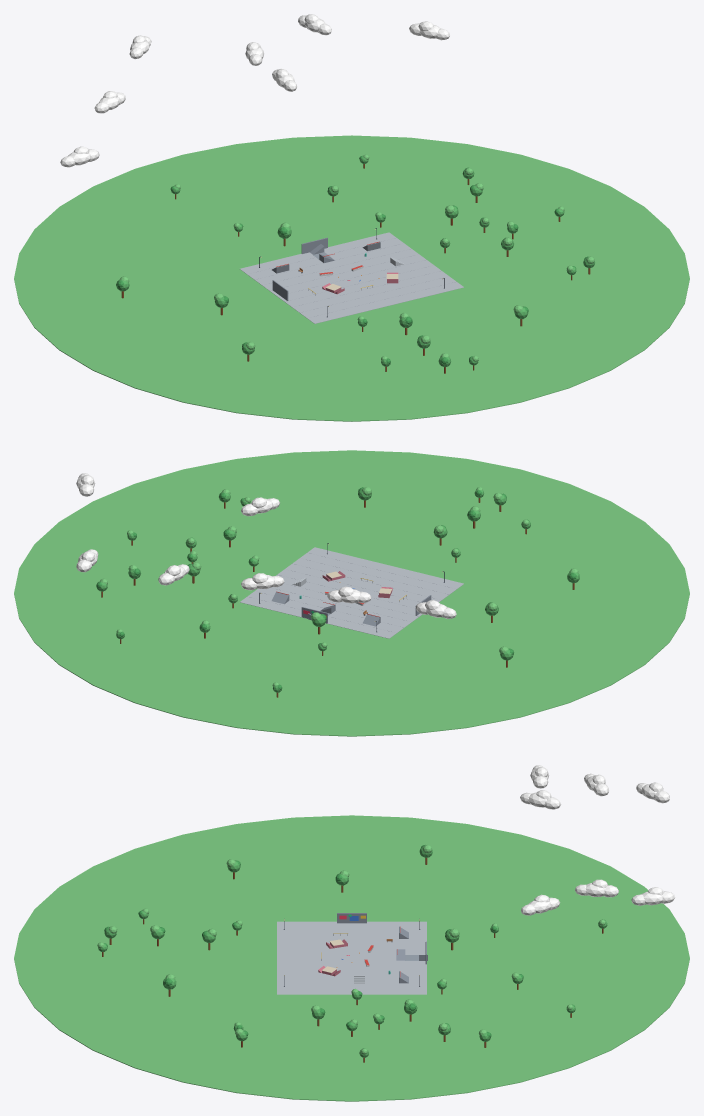
File: Skate_World.fbx
3 renders of one model, top to bottom at view 1: azimuth 30°, elevation 25°; view 2: azimuth 150°, elevation 25°; view 3: azimuth 270°, elevation 25°, orthographic.
Parts seen in each view (by area): view 1: Ground.001, Concrete.001; view 2: Ground.001, Concrete.001, Cloud.002, Cloud.003, Cloud.001, Cloud.004; view 3: Ground.001, Concrete.001, Cloud.005, Cloud.006, Cloud.004, Cloud.007.
Boxes of the visible parts, x1=… form: Ground.001: x1=14, y1=135, x2=689, y2=421; Concrete.001: x1=240, y1=232, x2=463, y2=323; Ground.001: x1=14, y1=450, x2=689, y2=736; Concrete.001: x1=240, y1=547, x2=463, y2=638; Cloud.002: x1=327, y1=586, x2=371, y2=603; Cloud.003: x1=241, y1=573, x2=284, y2=590; Cloud.001: x1=415, y1=600, x2=456, y2=618; Cloud.004: x1=241, y1=497, x2=279, y2=516; Ground.001: x1=14, y1=815, x2=689, y2=1101; Concrete.001: x1=277, y1=921, x2=426, y2=994; Cloud.005: x1=575, y1=879, x2=618, y2=897; Cloud.006: x1=631, y1=887, x2=674, y2=905; Cloud.004: x1=520, y1=790, x2=560, y2=809; Cloud.007: x1=521, y1=894, x2=560, y2=915.
Bounding box in the file's own units: 180 × 49.76 × 180.
